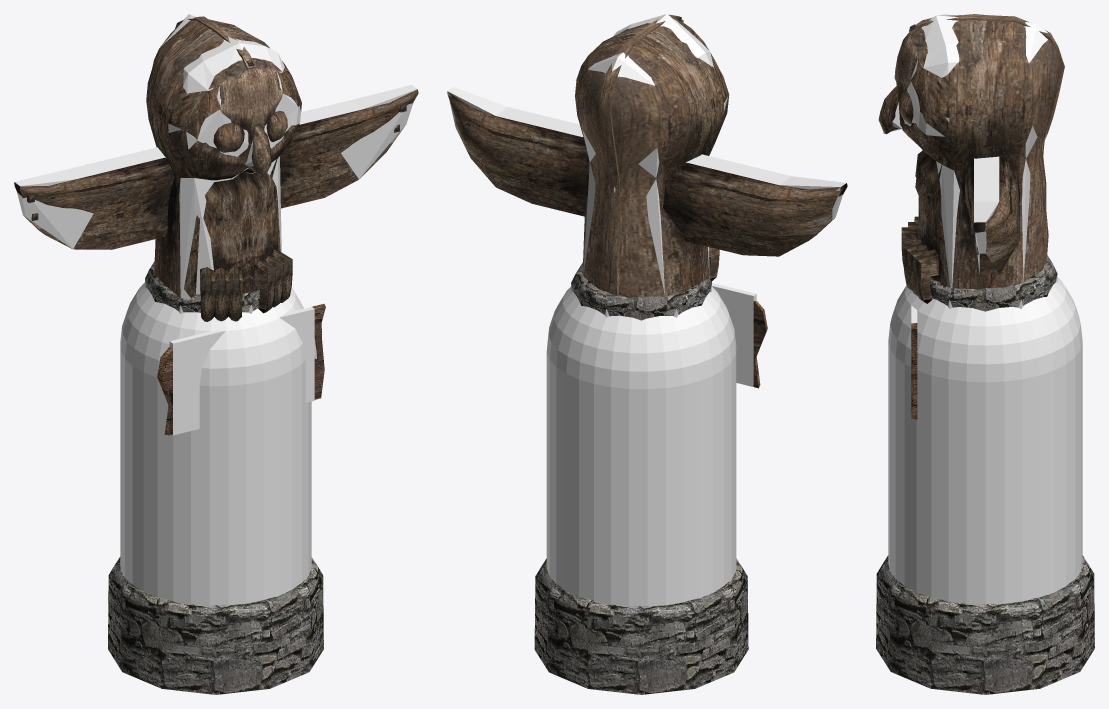
The model's file is prop_owl_totem_01.glb.
The picture shows the model from 3 angles, left to right: view 1: azimuth 30°, elevation 25°; view 2: azimuth 150°, elevation 25°; view 3: azimuth 270°, elevation 25°; orthographic projection. The views are drawn at different scales.
Visible parts, largest first — view 1: prop_owl_totem_01.model, Bound Poly Capsule, Bound Poly Mesh, Bound Poly Box; view 2: prop_owl_totem_01.model, Bound Poly Capsule, Bound Poly Mesh, Bound Poly Box; view 3: prop_owl_totem_01.model, Bound Poly Capsule, Bound Poly Mesh.
Part boxes in pixels (x1=…): prop_owl_totem_01.model: x1=14, y1=16, x2=418, y2=694; Bound Poly Capsule: x1=120, y1=282, x2=311, y2=605; Bound Poly Mesh: x1=14, y1=14, x2=417, y2=299; Bound Poly Box: x1=169, y1=307, x2=314, y2=435; prop_owl_totem_01.model: x1=447, y1=14, x2=847, y2=694; Bound Poly Capsule: x1=546, y1=286, x2=736, y2=606; Bound Poly Mesh: x1=447, y1=14, x2=846, y2=294; Bound Poly Box: x1=712, y1=283, x2=756, y2=386; prop_owl_totem_01.model: x1=876, y1=14, x2=1094, y2=694; Bound Poly Capsule: x1=888, y1=277, x2=1082, y2=604; Bound Poly Mesh: x1=891, y1=14, x2=1047, y2=288.
Size of the model in its own units: 2.2 by 3.4 by 1.03.
Materials: 5 (2 with a texture image).
